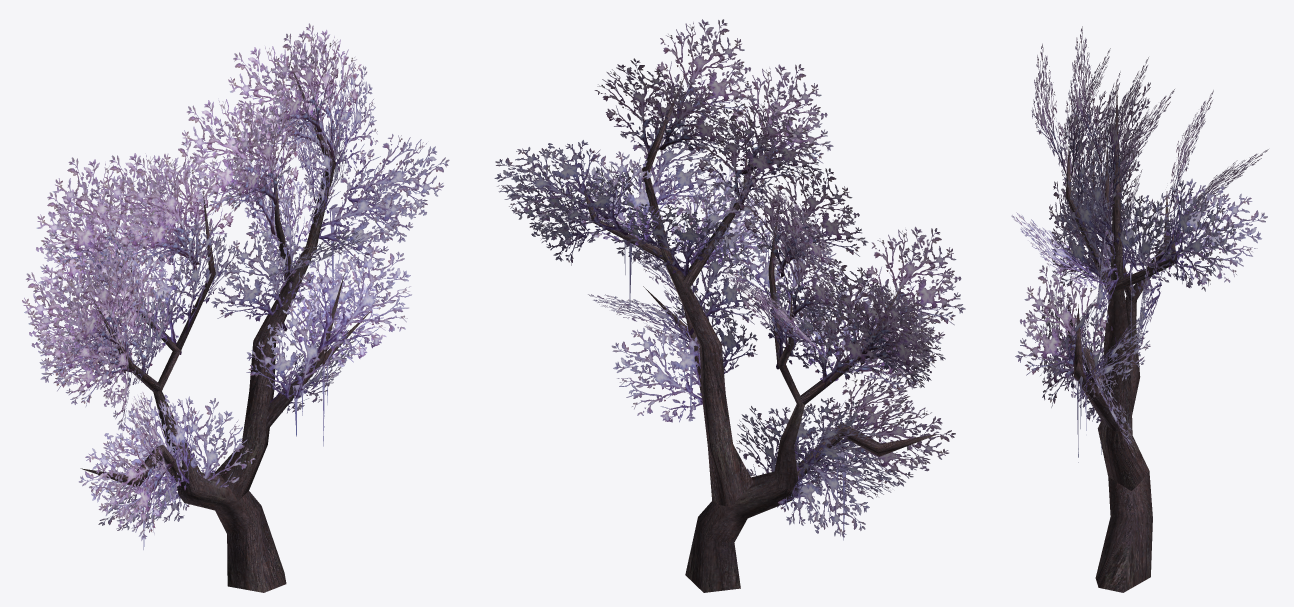
The model's file is yw_piaomiaofeng_dashu01.FBX.
3 views of the same model, side by side, from view 1: azimuth 30°, elevation 25°; view 2: azimuth 150°, elevation 25°; view 3: azimuth 270°, elevation 25° (orthographic). The views are drawn at different scales.
Parts seen in each view (by area): view 1: yw_piaomiaofeng_dashu01; view 2: yw_piaomiaofeng_dashu01; view 3: yw_piaomiaofeng_dashu01.
Boxes of the visible parts, x1,y1,x2,y2 form: yw_piaomiaofeng_dashu01: [22, 23, 449, 592]; yw_piaomiaofeng_dashu01: [494, 19, 965, 592]; yw_piaomiaofeng_dashu01: [1011, 26, 1268, 592].
Size of the model in its own units: 572 by 693 by 308.
